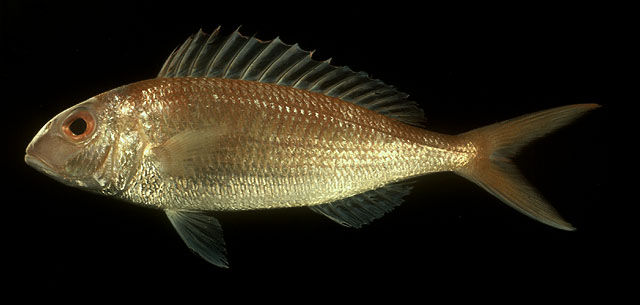fish: (25, 26, 602, 269)
